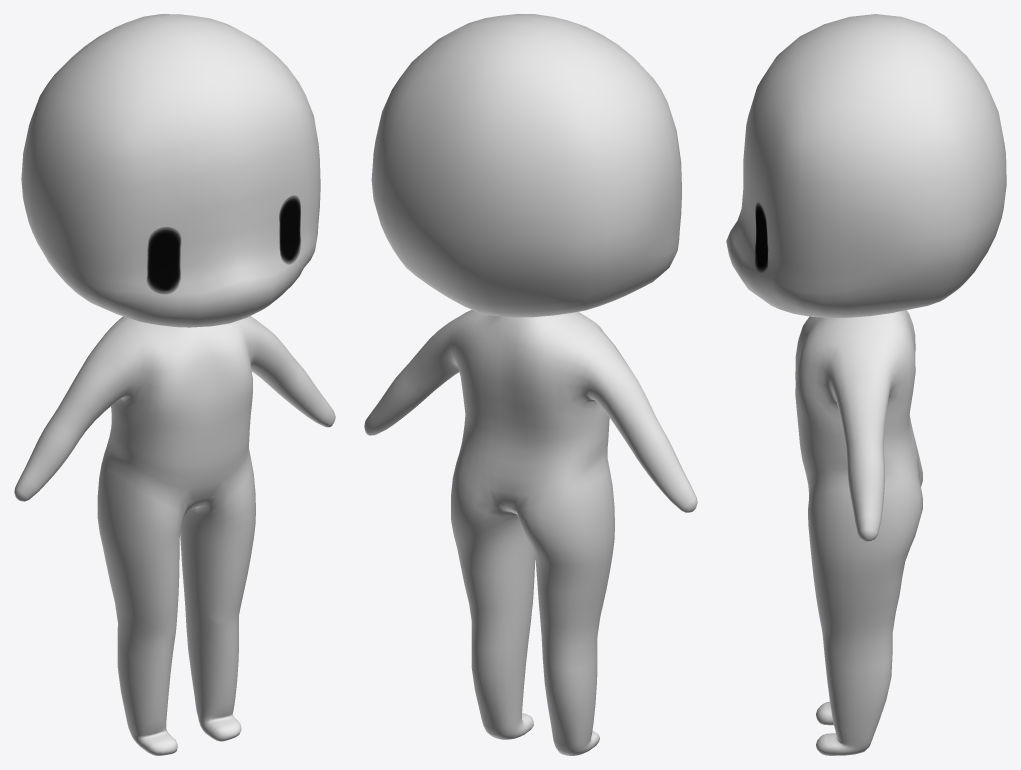
Rendered from npcModel.fbx.
The picture shows the model from 3 angles, left to right: view 1: azimuth 30°, elevation 25°; view 2: azimuth 150°, elevation 25°; view 3: azimuth 270°, elevation 25°; orthographic projection. The views are drawn at different scales.
Visible parts, largest first — view 1: head_npc, body_npc; view 2: head_npc, body_npc; view 3: head_npc, body_npc.
Boxes of the visible parts, x1,y1,x2,y2 form: head_npc: (21, 14, 320, 327); body_npc: (14, 316, 335, 755); head_npc: (371, 14, 681, 317); body_npc: (364, 310, 697, 755); head_npc: (726, 14, 1006, 317); body_npc: (795, 310, 922, 755).
Bounding box in the file's own units: 1.88 × 3.96 × 1.42.
Materials: 2 (1 with a texture image).
